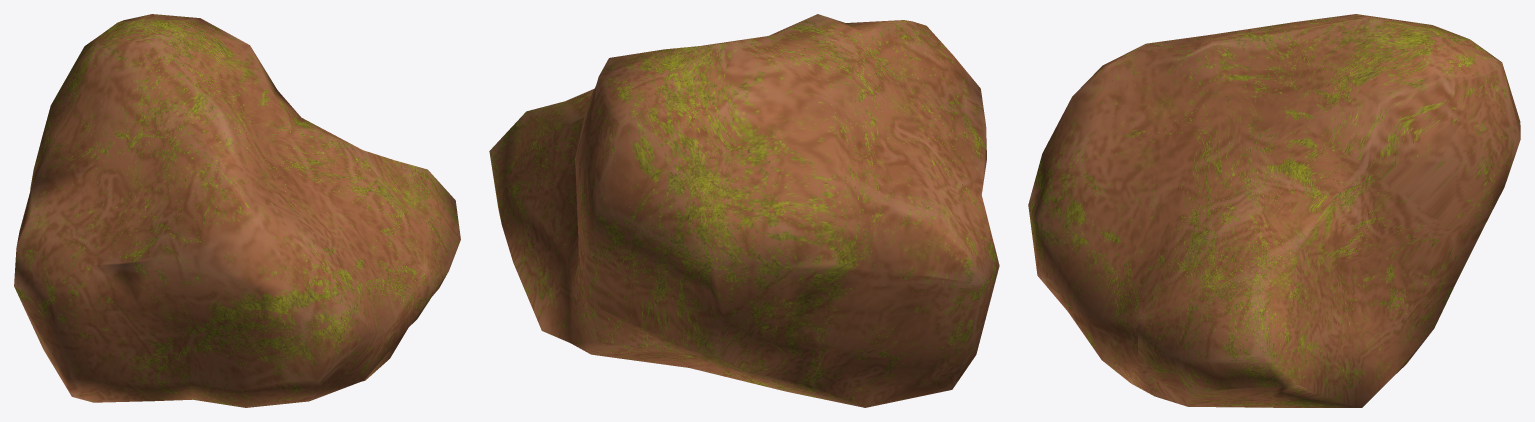
Rendered from ROK0110009.fbx.
3 renders of one model, left to right at view 1: azimuth 30°, elevation 25°; view 2: azimuth 150°, elevation 25°; view 3: azimuth 270°, elevation 25°, orthographic. The views are drawn at different scales.
Parts seen in each view (by area): view 1: smROK0110009; view 2: smROK0110009; view 3: smROK0110009.
Boxes of the visible parts, box(x1,y1,x2,y2) form: smROK0110009: box(14, 14, 460, 407); smROK0110009: box(489, 14, 999, 407); smROK0110009: box(1028, 14, 1520, 407).
Bounding box in the file's own units: 186 × 124 × 170.
Materials: 1 (1 with a texture image).
